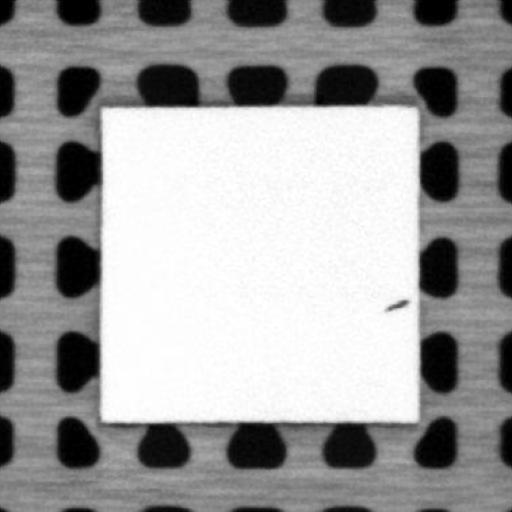DIE_INK: (383, 295, 409, 312)
